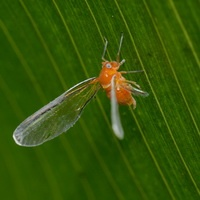insect: (13, 33, 147, 146)
